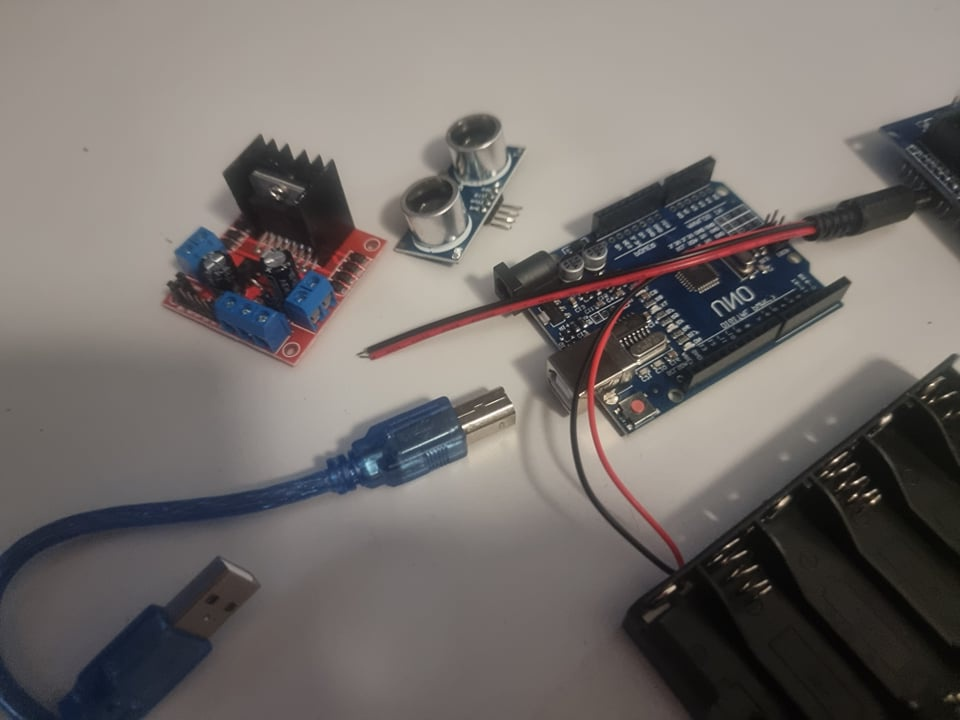BATTERY BOX: (619, 351, 959, 720)
MOTOR: (151, 125, 380, 369)
SENSOR: (392, 99, 525, 263)
UNO R3: (492, 155, 849, 438)
